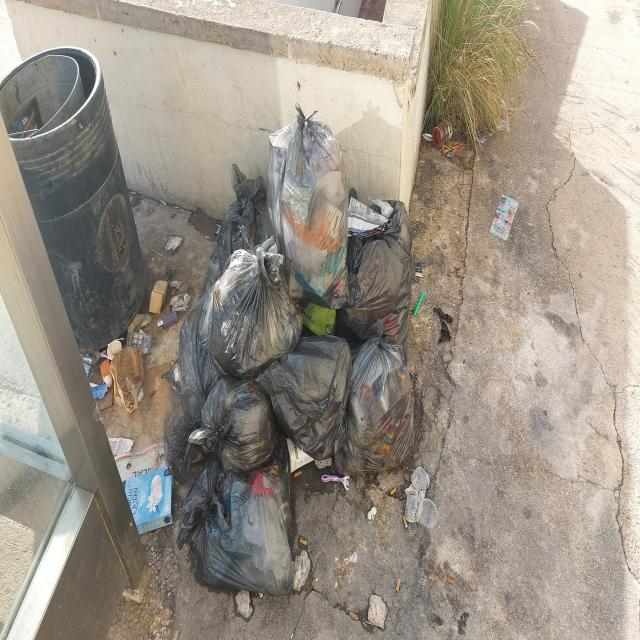Mixed Waste -Black Bag-: (182, 251, 302, 396), (181, 452, 297, 595), (266, 116, 350, 311), (331, 197, 415, 339), (167, 383, 279, 482), (336, 335, 416, 471), (268, 339, 356, 460), (216, 174, 279, 270)
Other: (82, 264, 178, 414), (107, 434, 183, 537), (421, 117, 467, 161)
